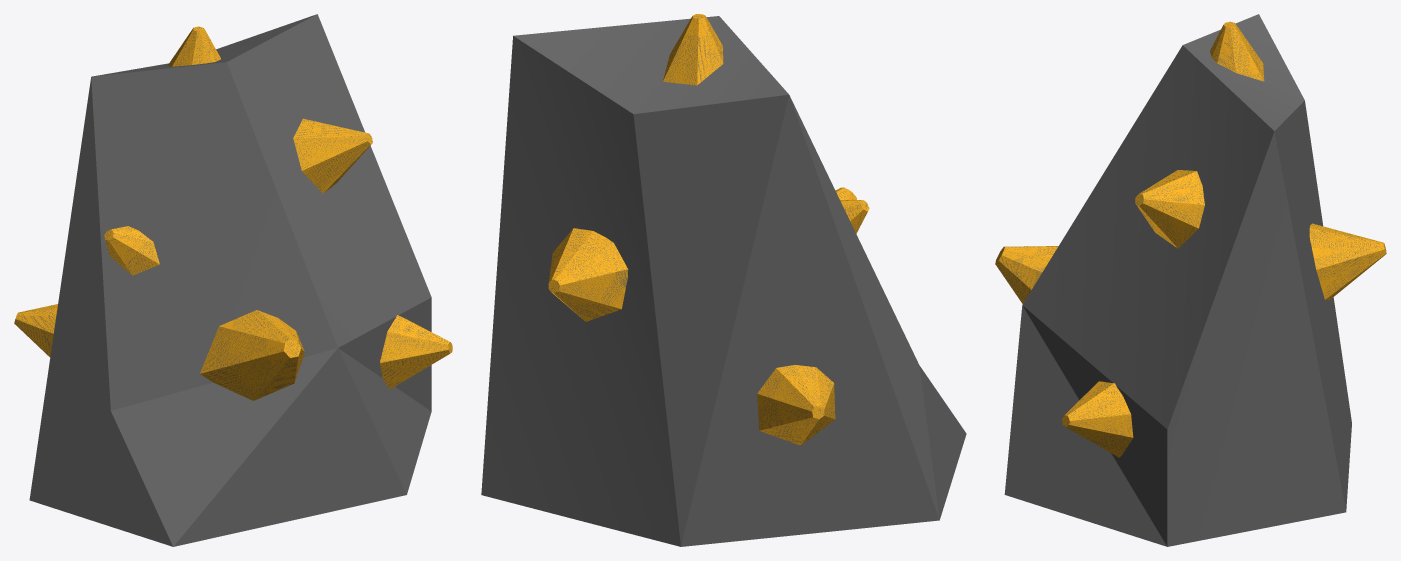
The model's file is Ore_Node_05.fbx.
The picture shows the model from 3 angles, left to right: view 1: azimuth 30°, elevation 25°; view 2: azimuth 150°, elevation 25°; view 3: azimuth 270°, elevation 25°; orthographic projection. The views are drawn at different scales.
Parts seen in each view (by area): view 1: Model; view 2: Model; view 3: Model.
Boxes of the visible parts, x1,y1,x2,y2 form: Model: [14, 14, 452, 546]; Model: [481, 14, 966, 546]; Model: [995, 14, 1386, 546].
Size of the model in its own units: 204 by 226 by 172.
